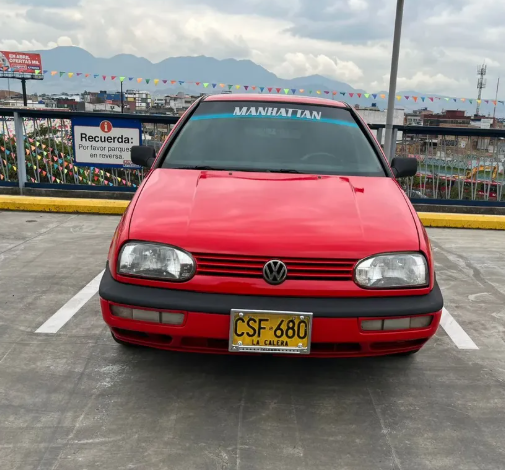placa: (231, 307, 311, 356)
